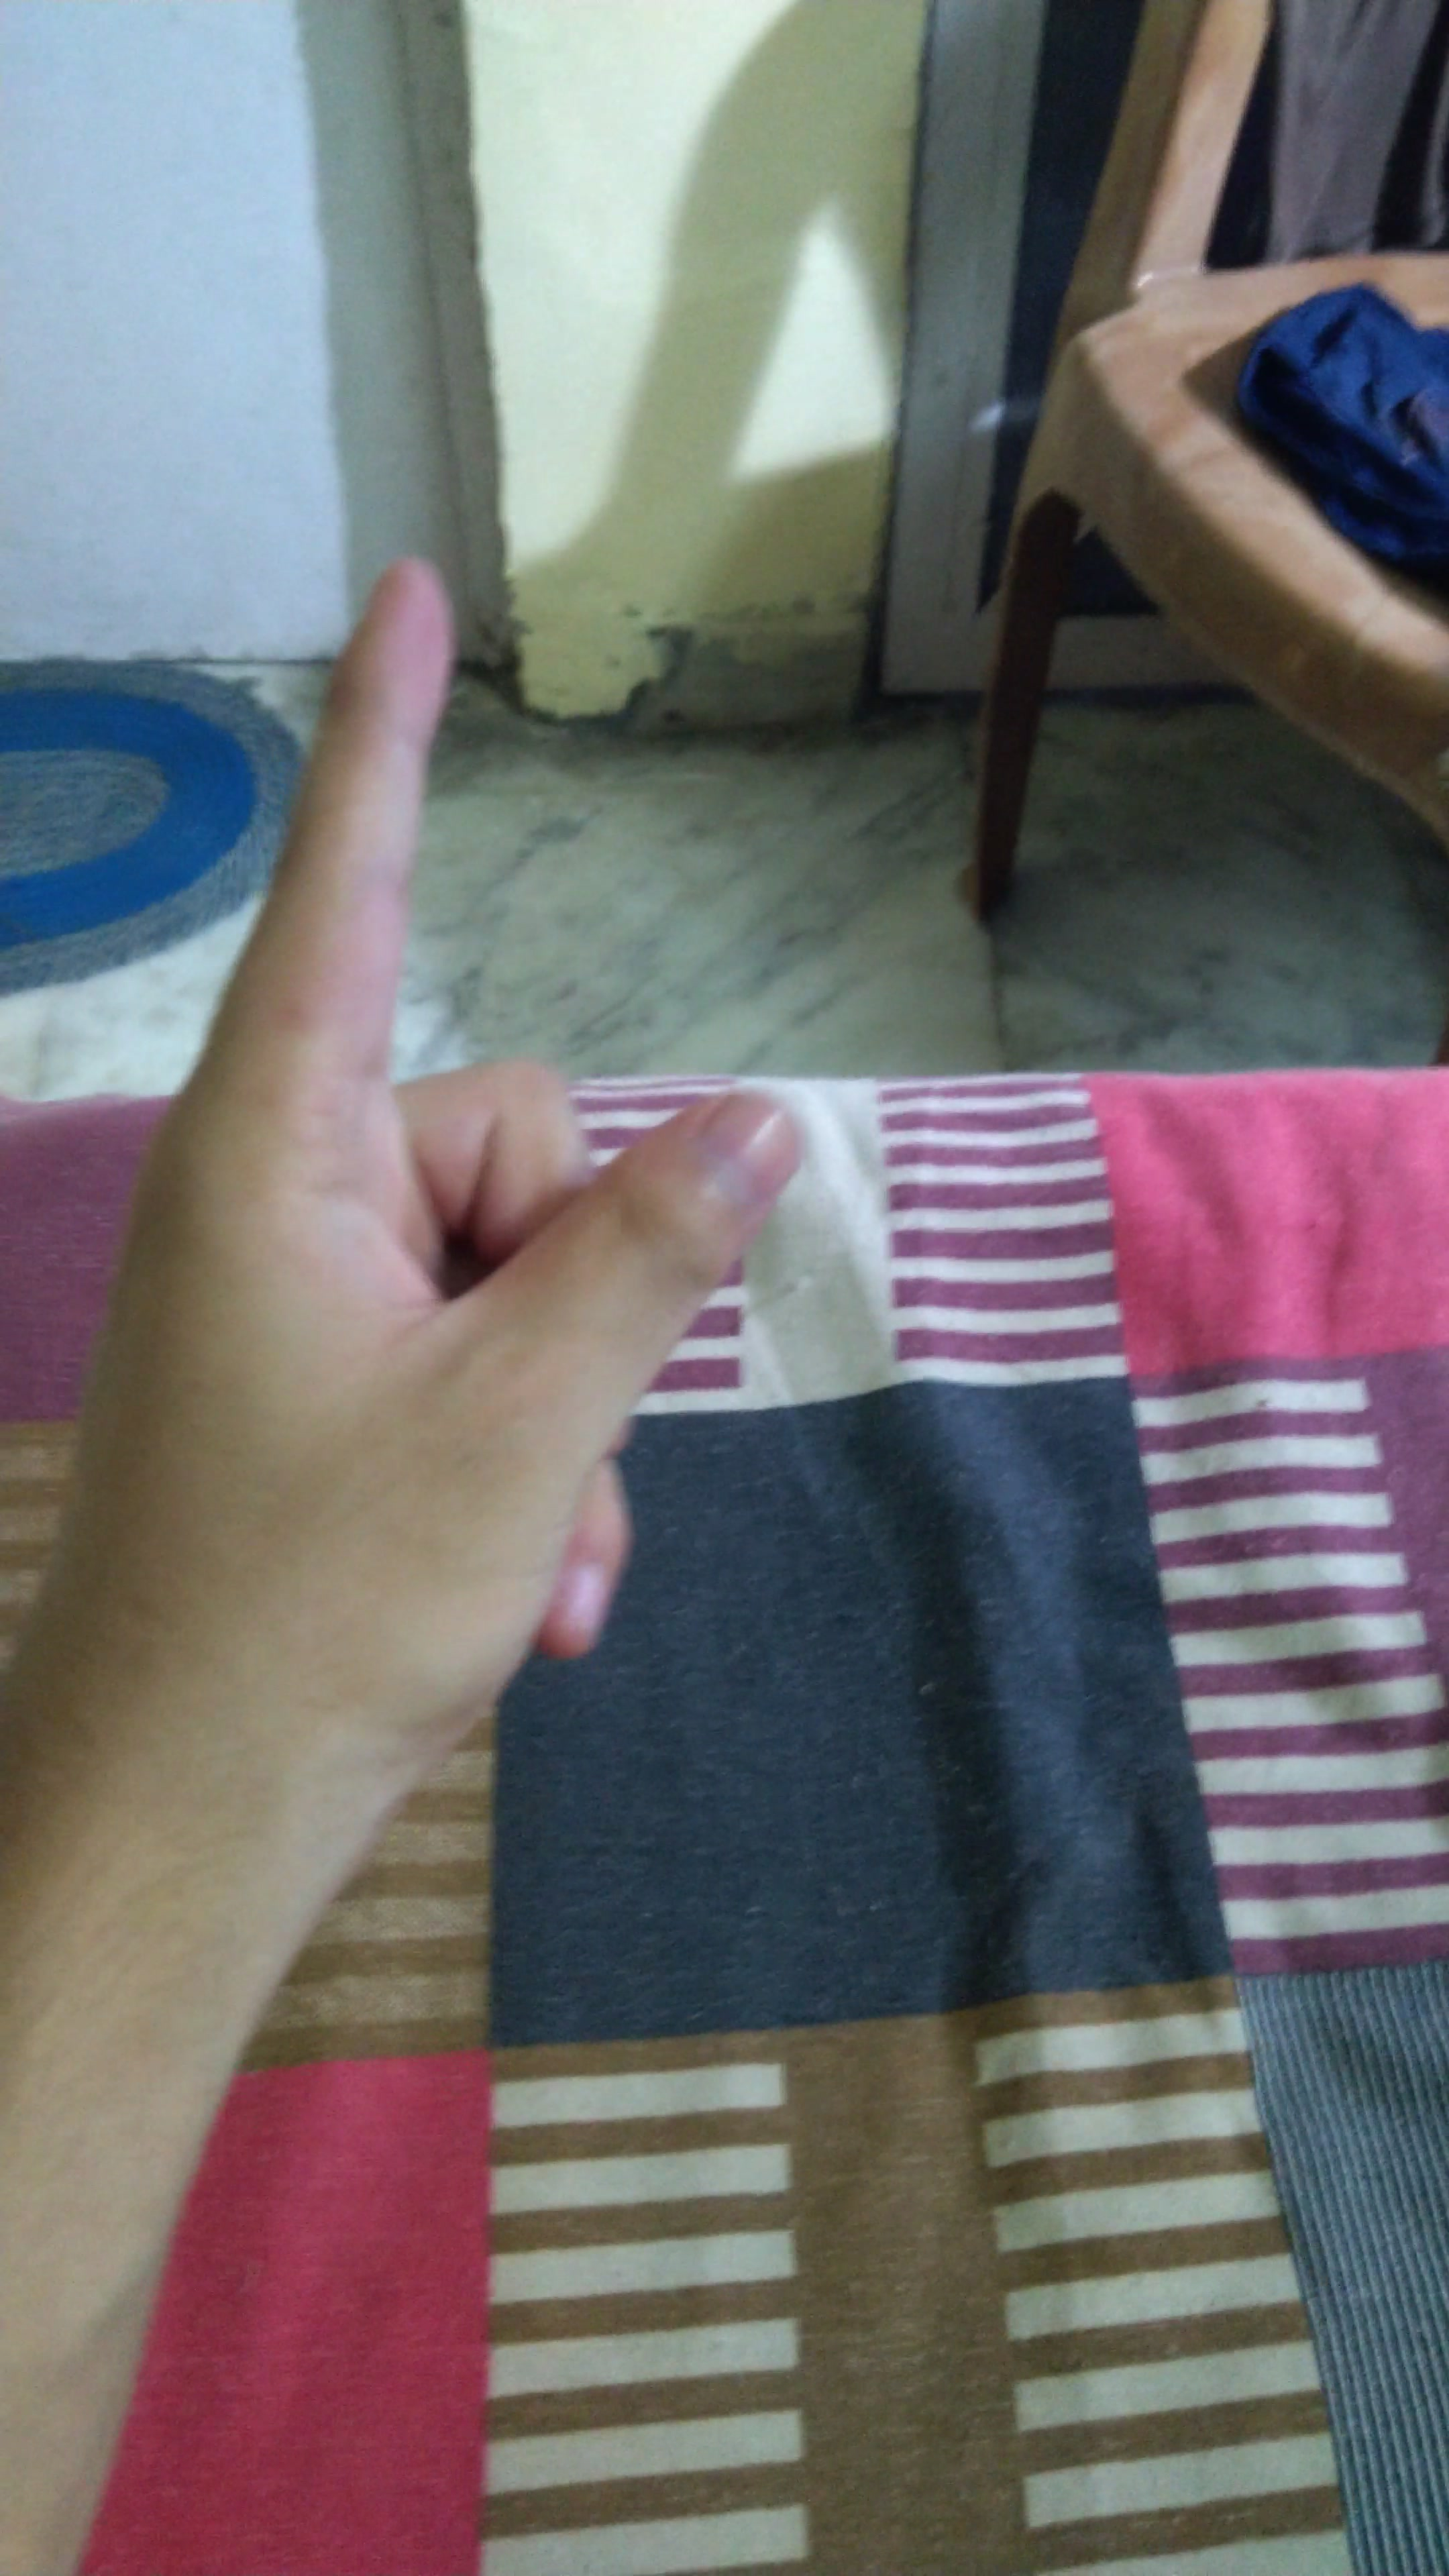hand: (30, 527, 1039, 1852)
